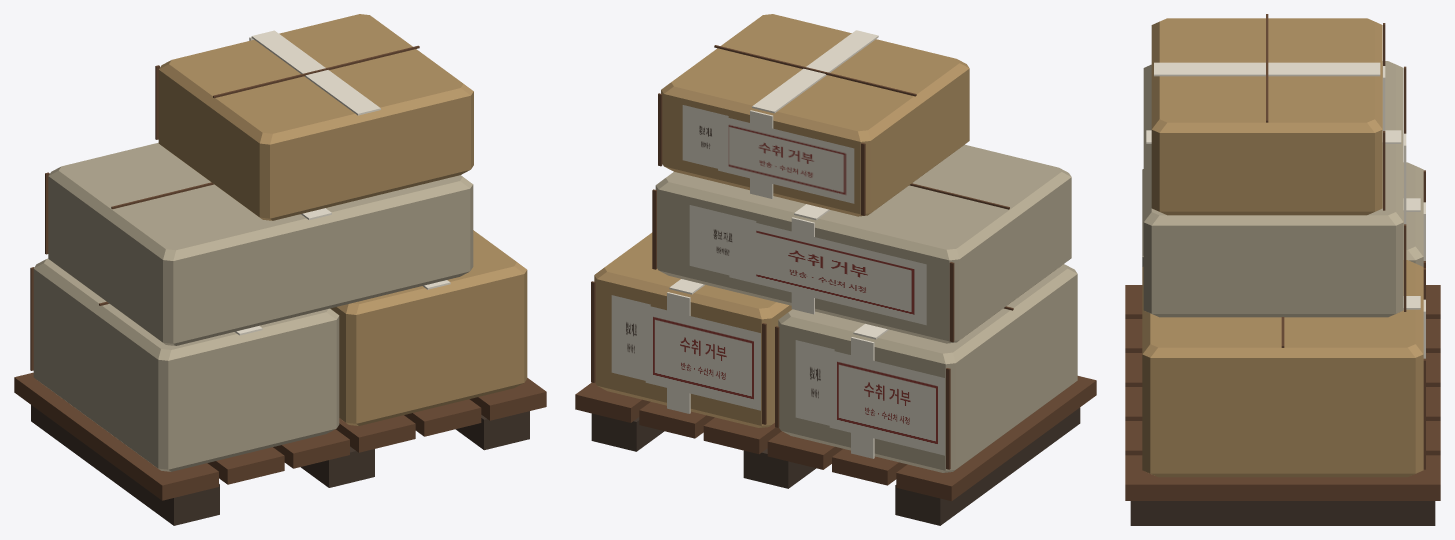
File: W02_Returned_Publicity_Parcels.fbx
3 renders of one model, left to right at view 1: azimuth 30°, elevation 25°; view 2: azimuth 150°, elevation 25°; view 3: azimuth 270°, elevation 25°, orthographic. The views are drawn at different scales.
Visible parts, largest first — view 1: Parcel_03, Parcel_04, Parcel_01, Parcel_02, Structure; view 2: Parcel_03, Parcel_04, Return_Stamp, Parcel_01, Structure, Parcel_02; view 3: Parcel_02, Parcel_04, Parcel_03, Structure, Parcel_01.
Part boxes in pixels (left/top/right/bottom): Parcel_03: left=45, top=142, right=473, bottom=345; Parcel_04: left=155, top=14, right=473, bottom=220; Parcel_01: left=30, top=258, right=339, bottom=471; Parcel_02: left=330, top=230, right=527, bottom=425; Structure: left=14, top=372, right=546, bottom=525; Parcel_03: left=652, top=144, right=1071, bottom=343; Parcel_04: left=658, top=14, right=969, bottom=216; Return_Stamp: left=645, top=118, right=944, bottom=455; Parcel_01: left=775, top=264, right=1077, bottom=472; Structure: left=575, top=376, right=1096, bottom=525; Parcel_02: left=591, top=232, right=791, bottom=427; Parcel_02: left=1142, top=260, right=1425, bottom=477; Parcel_04: left=1151, top=14, right=1385, bottom=215; Parcel_03: left=1143, top=61, right=1406, bottom=317; Structure: left=1125, top=285, right=1440, bottom=525; Parcel_01: left=1142, top=162, right=1425, bottom=267.
Bounding box in the file's own units: 1.8 × 1.6 × 1.2.
6 materials, 1 textured.
